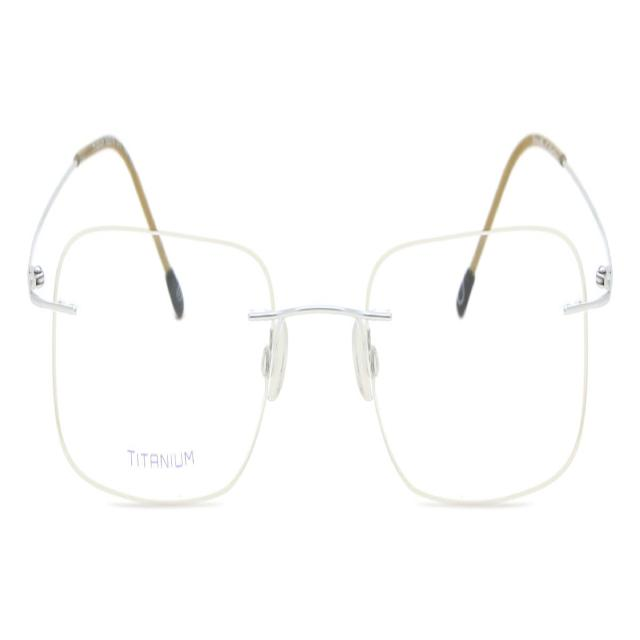glasses: (29, 131, 636, 503)
